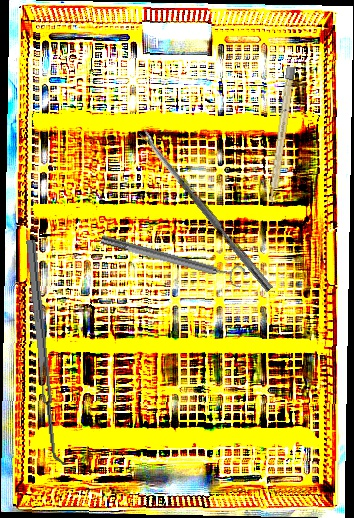Fixation Ring: (98, 227, 247, 290)
Scalpel Handle: (267, 66, 296, 205)
Spatula Surgical: (26, 238, 68, 467)
Surgical Spoon: (139, 128, 274, 293)
